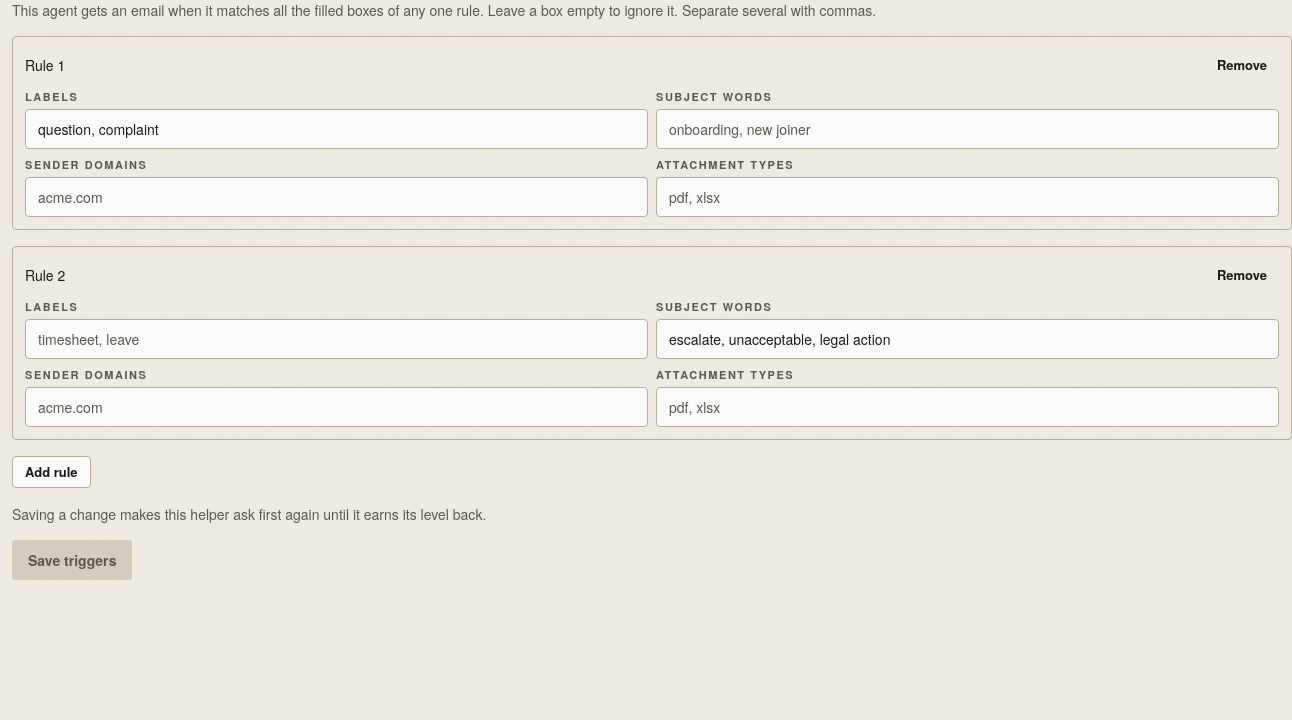
it: TriggersTab › will not save a rule with every box empty
expect the text "Rule 2" is shown: met, box [25,265,65,285]
Step 1. Click the button "Add rule" → coordinates (51, 472), box [12,456,90,488]
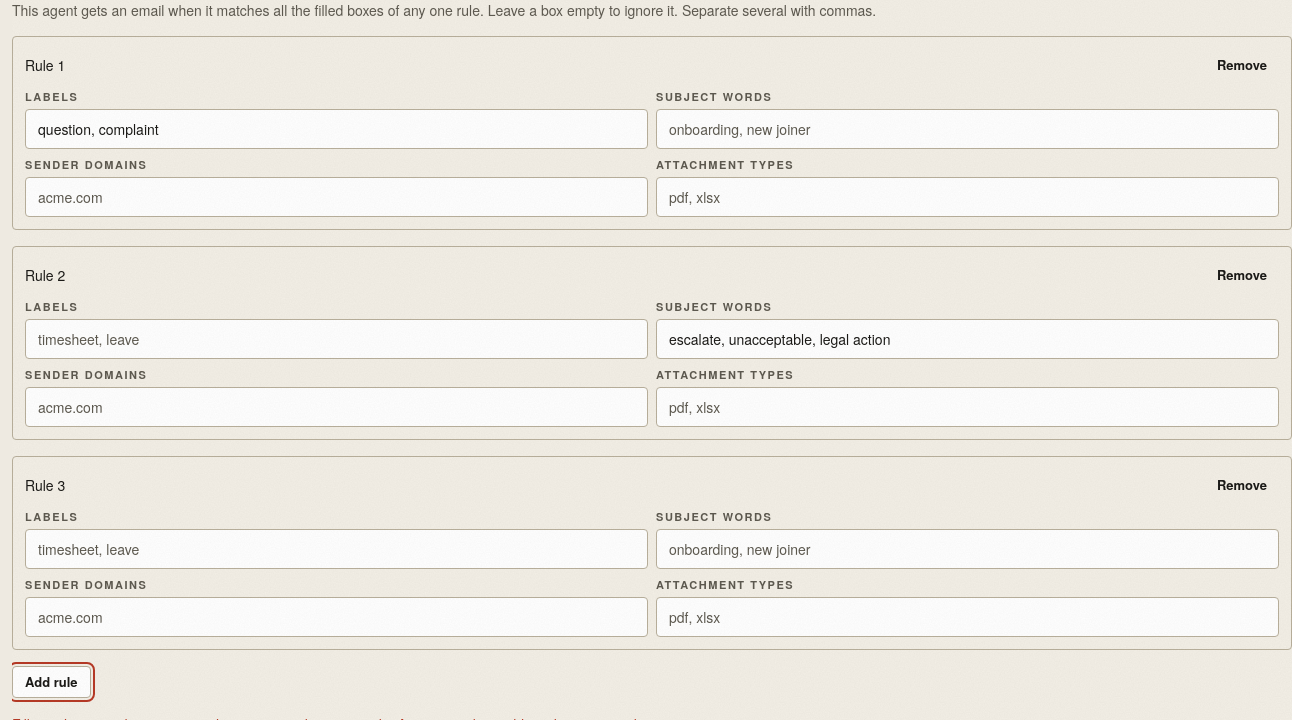
Step 2. Type "x" into the 3rd field labelled "Labels" → coordinates (336, 549), box [25,529,648,569]
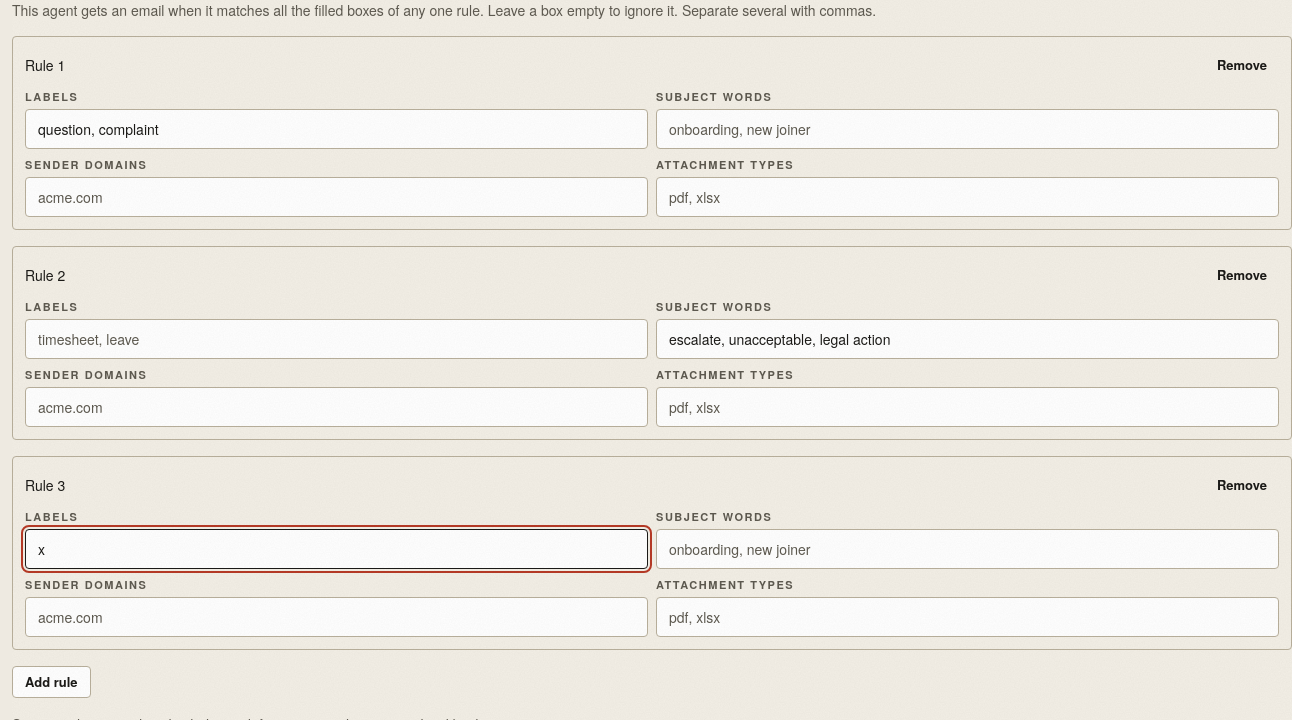
Step 3. Clear the 3rd field labelled "Labels" → coordinates (336, 549), box [25,529,648,569]
(page scrolled)
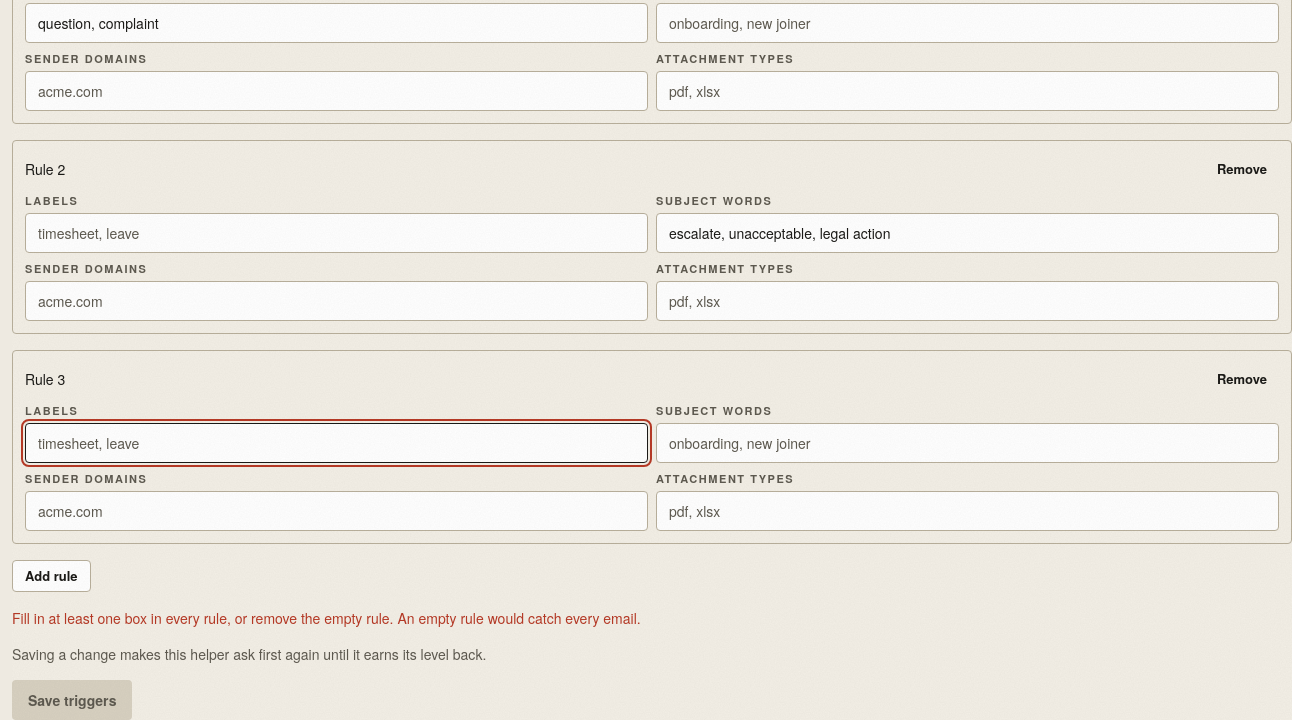
expect the message shows "Fill in at least one box in every rule": met, box [12,608,641,628]
expect the button "Save triggers" is disabled: met, box [12,680,132,719]
